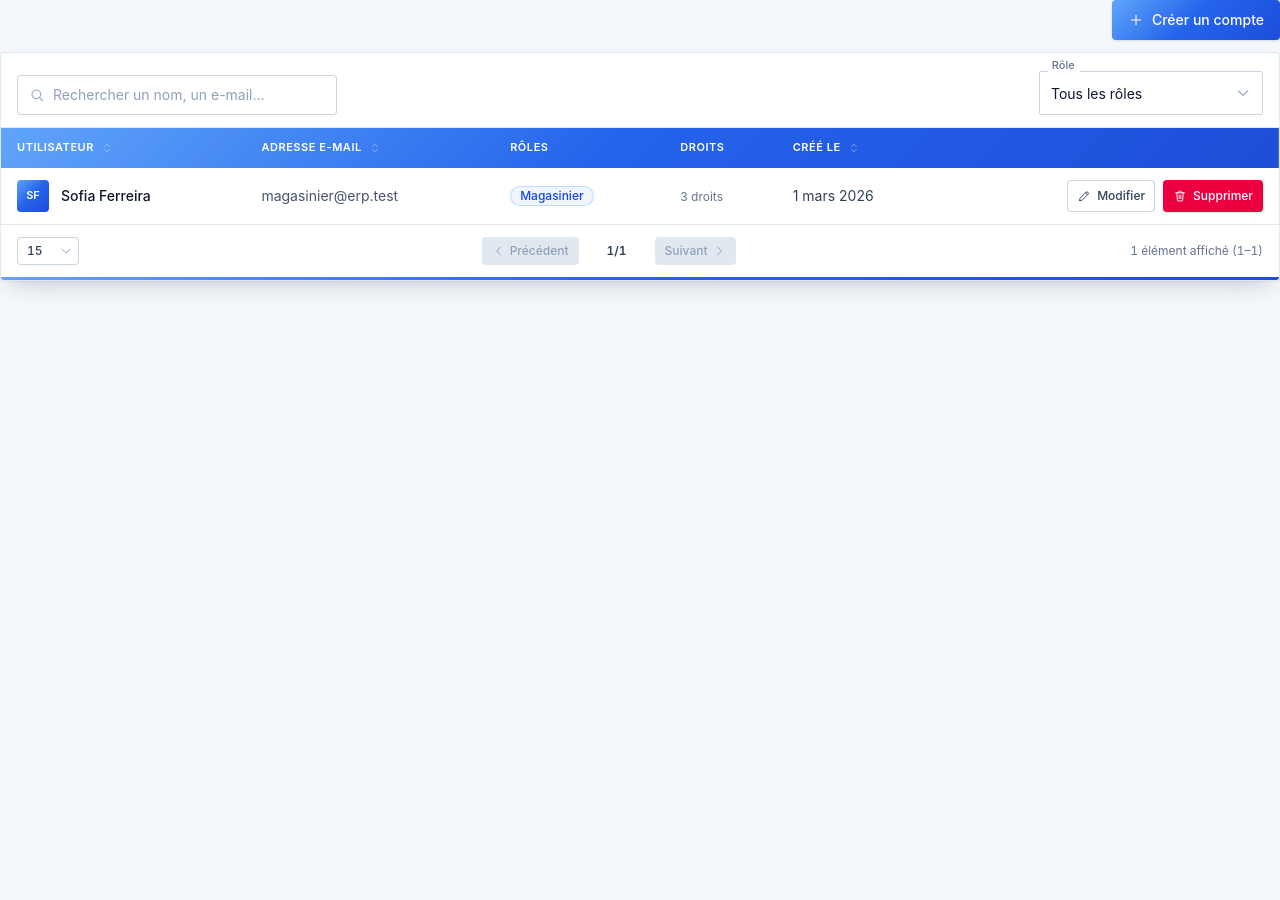
Test: UserList › relaie le refus du backend plutôt que de le masquer
What coordinates should you click on to do the following:
click the button "Supprimer"
I would click on:
 (1213, 196)
Its box is [1163,180,1263,212].
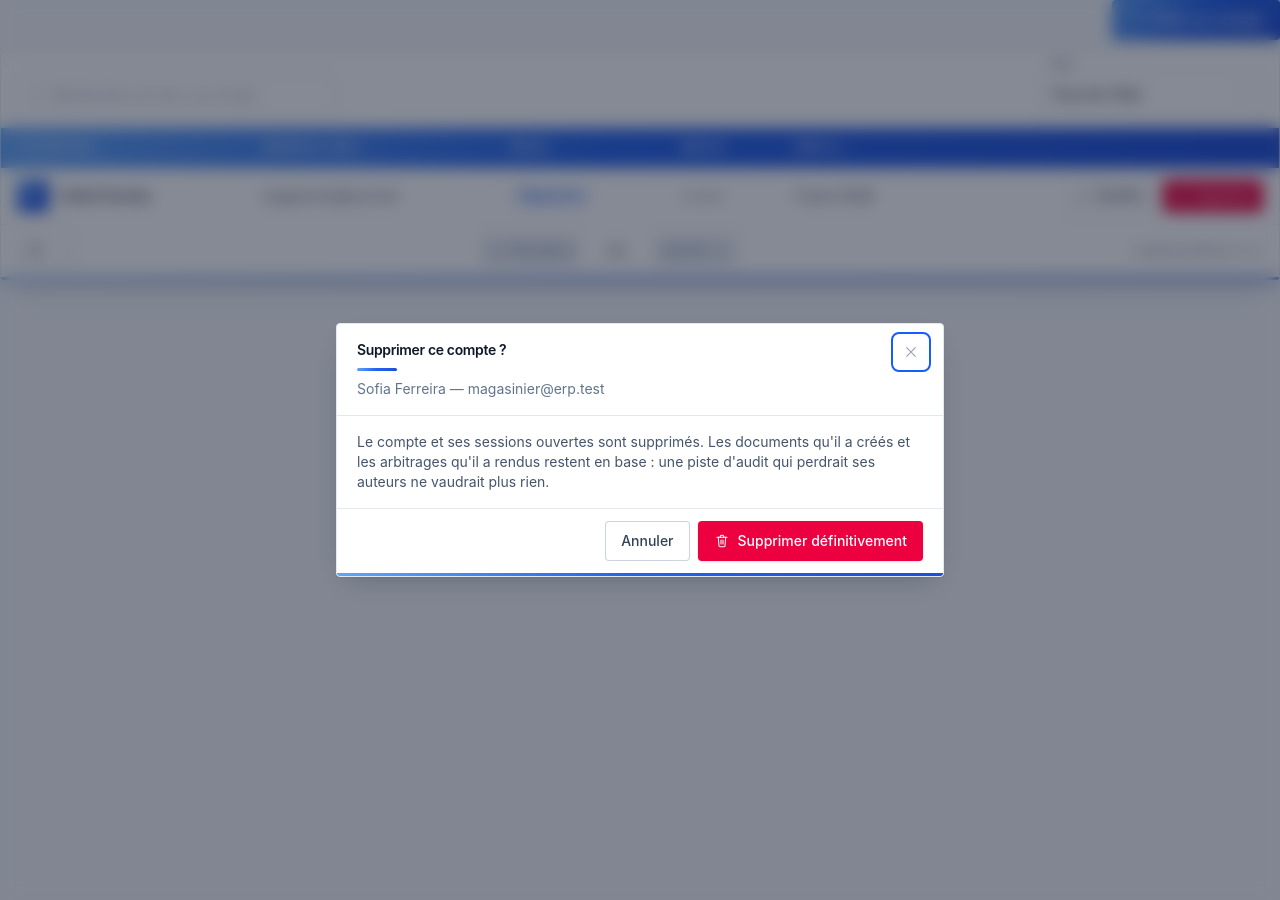
What coordinates should you click on to do the following:
click the button "Supprimer définitivement"
I would click on:
 (810, 541)
Its box is [698,521,923,561].
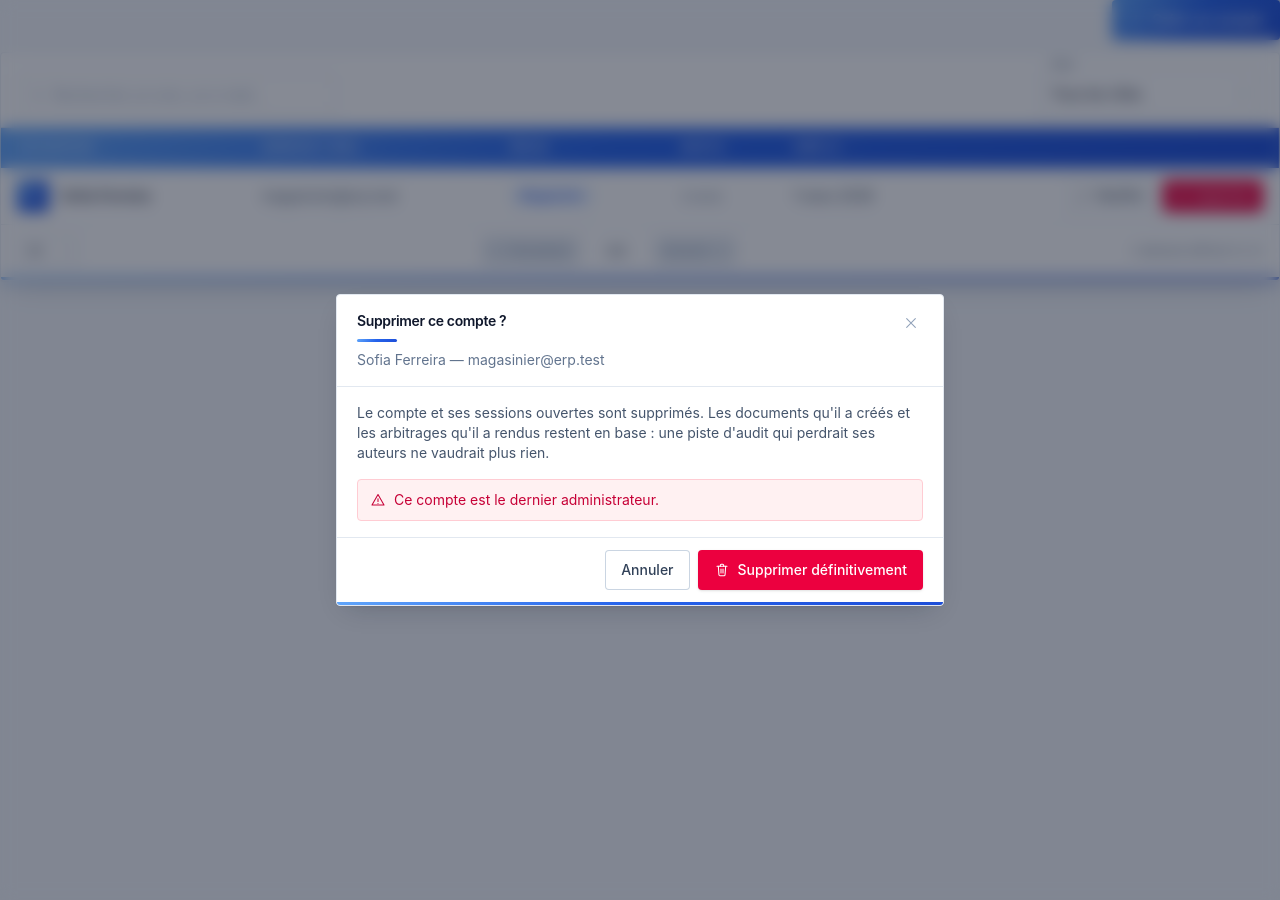
expect the text "Ce compte est le dernier administrateur." is shown: met, box [394,490,659,510]
